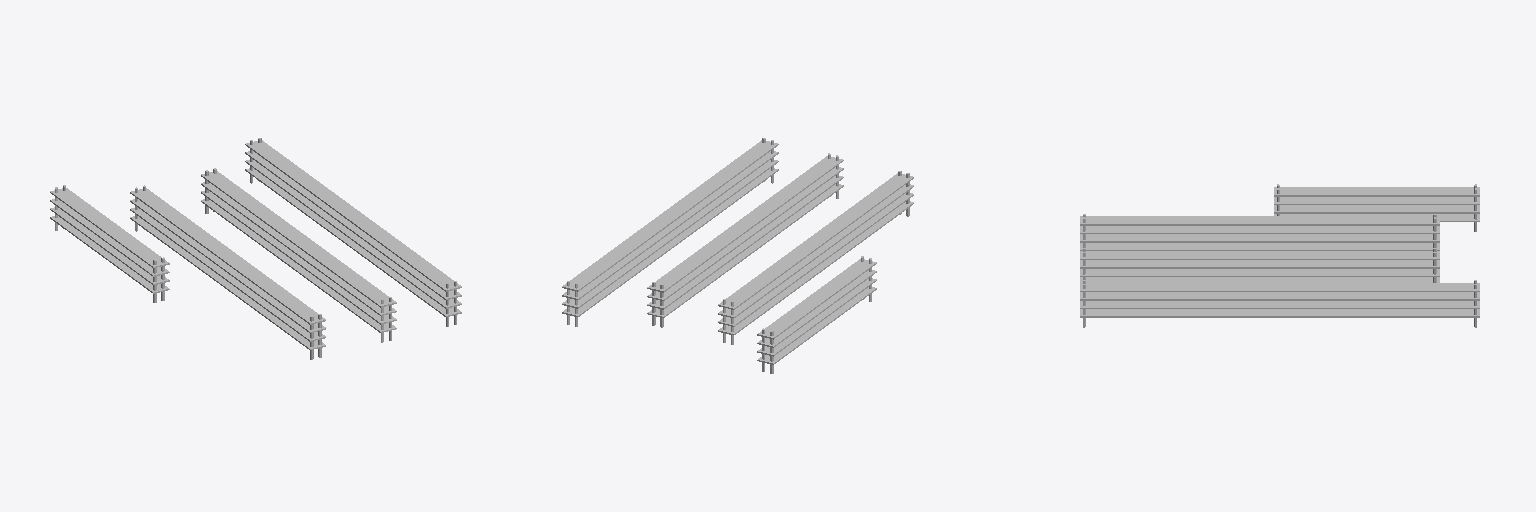
Rendered from ShelvesLayer.obj.
The picture shows the model from 3 angles: view 1: azimuth 30°, elevation 25°; view 2: azimuth 150°, elevation 25°; view 3: azimuth 270°, elevation 25°; orthographic projection.
Parts seen in each view (by area): view 1: entity6_brush1, entity7_brush1, entity8_brush1, entity6_brush5, entity6_brush2, entity6_brush4, entity9_brush1, entity7_brush5, entity7_brush2, entity7_brush4, entity8_brush4, entity8_brush5 (+4 smaller); view 2: entity6_brush1, entity8_brush1, entity7_brush1, entity9_brush1, entity6_brush5, entity6_brush2, entity6_brush4, entity8_brush2, entity8_brush4, entity8_brush5, entity7_brush5, entity7_brush4 (+4 smaller); view 3: entity6_brush1, entity6_brush2, entity6_brush4, entity8_brush1, entity7_brush1, entity7_brush4, entity8_brush5, entity6_brush5, entity7_brush5, entity8_brush4, entity8_brush2, entity7_brush2 (+4 smaller).
Boxes of the visible parts, <box> form: entity6_brush1: <box>245,140,461,291</box>; entity7_brush1: <box>201,171,396,307</box>; entity8_brush1: <box>130,188,325,324</box>; entity6_brush5: <box>245,160,461,308</box>; entity6_brush2: <box>245,168,461,316</box>; entity6_brush4: <box>245,151,461,299</box>; entity9_brush1: <box>50,188,169,267</box>; entity7_brush5: <box>201,191,396,324</box>; entity7_brush2: <box>201,199,396,332</box>; entity7_brush4: <box>201,182,396,315</box>; entity8_brush4: <box>130,199,325,332</box>; entity8_brush5: <box>130,208,325,341</box>; entity6_brush1: <box>562,140,778,291</box>; entity8_brush1: <box>718,173,913,309</box>; entity7_brush1: <box>647,156,843,292</box>; entity9_brush1: <box>757,259,876,339</box>; entity6_brush5: <box>562,160,778,308</box>; entity6_brush2: <box>562,168,778,316</box>; entity6_brush4: <box>562,151,778,299</box>; entity8_brush2: <box>718,201,913,334</box>; entity8_brush4: <box>718,184,913,317</box>; entity8_brush5: <box>718,193,913,326</box>; entity7_brush5: <box>647,176,843,309</box>; entity7_brush4: <box>647,167,843,300</box>; entity6_brush1: <box>1080,283,1479,291</box>; entity6_brush2: <box>1080,309,1479,317</box>; entity6_brush4: <box>1080,292,1479,300</box>; entity8_brush1: <box>1080,216,1439,225</box>; entity7_brush1: <box>1080,251,1439,259</box>; entity7_brush4: <box>1080,260,1439,268</box>; entity8_brush5: <box>1080,234,1439,242</box>; entity6_brush5: <box>1080,301,1479,308</box>; entity7_brush5: <box>1080,269,1439,276</box>; entity8_brush4: <box>1080,226,1439,233</box>; entity8_brush2: <box>1080,243,1439,250</box>; entity7_brush2: <box>1080,277,1439,282</box>.
Bounding box in the file's own units: 624 × 120 × 1024.